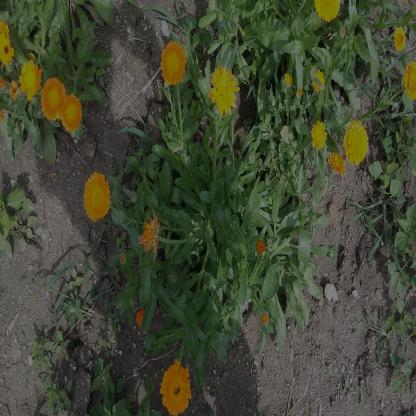marigold: (161, 360, 191, 416), (210, 66, 239, 115), (83, 171, 111, 221), (161, 42, 187, 82), (344, 121, 368, 161), (41, 79, 64, 118), (63, 92, 83, 133), (314, 0, 341, 25), (22, 64, 40, 96), (0, 34, 14, 66), (312, 121, 327, 150), (329, 152, 346, 176), (405, 61, 416, 97), (394, 25, 404, 53)
